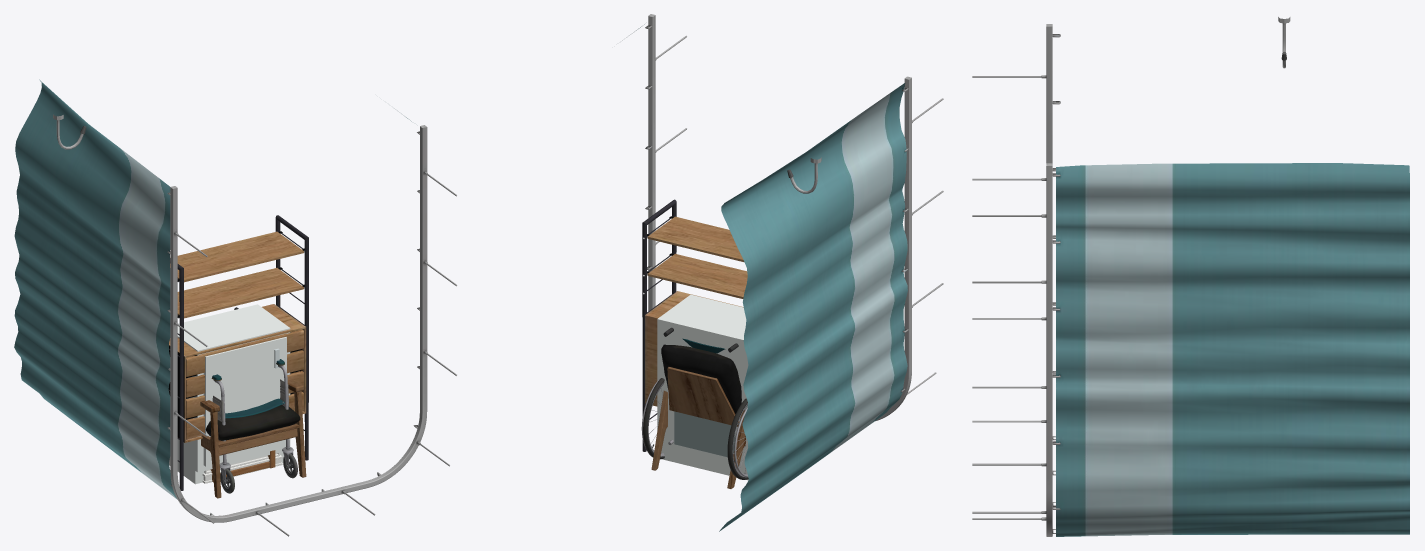
Rendered from care.glb.
3 views of the same model, side by side, from view 1: azimuth 30°, elevation 25°; view 2: azimuth 150°, elevation 25°; view 3: azimuth 270°, elevation 25° (orthographic). The views are drawn at different scales.
Parts seen in each view (by area): view 1: ID12, drawer_cabinet, ID21, doorFridge, modern_arm_chair_01, kitchenFridgeSmall(Clone), wheelchair_01, drawer_cabinet_drawer_01, drawer_cabinet_drawer_02, drawer_cabinet_drawer_03, aws_NightStand_01_visual; view 2: ID12, kitchenFridgeSmall(Clone), drawer_cabinet, modern_arm_chair_01, ID21, wheelchair_01; view 3: ID12, ID21.
Boxes of the visible parts, x1,y1,x2,y2 form: ID12: (14,79,419,515); drawer_cabinet: (168,215,308,490); ID21: (53,114,457,536); doorFridge: (203,337,286,466); modern_arm_chair_01: (200,379,306,498); kitchenFridgeSmall(Clone): (169,304,290,484); wheelchair_01: (208,307,297,493); drawer_cabinet_drawer_01: (186,329,303,376); drawer_cabinet_drawer_02: (186,350,303,397); drawer_cabinet_drawer_03: (186,371,303,418); aws_NightStand_01_visual: (202,452,282,483); ID12: (622,24,908,531); kitchenFridgeSmall(Clone): (657,294,748,480); drawer_cabinet: (642,199,747,451); modern_arm_chair_01: (651,344,745,488); ID21: (648,14,943,421); wheelchair_01: (641,327,748,479); ID12: (1052,34,1409,536); ID21: (972,17,1290,536).
Bounding box in the file's own units: 2.39 × 2.97 × 2.93.
12 materials, 8 textured.
